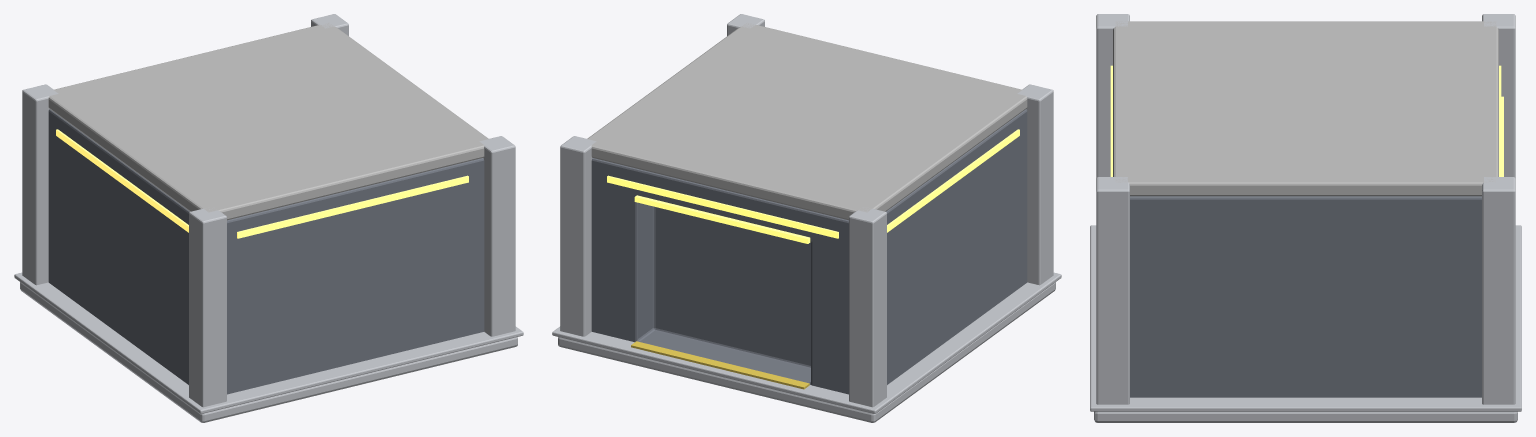
File: hangar3.glb
3 views of the same model, side by side, from view 1: azimuth 30°, elevation 25°; view 2: azimuth 150°, elevation 25°; view 3: azimuth 270°, elevation 25° (orthographic). The views are drawn at different scales.
Visible parts, largest first — view 1: ext_wall, int_ceiling, int_columns, int_slab_edge, int_slab, ext_stripe3, ext_stripe2; view 2: ext_wall, int_ceiling, int_columns, int_slab_edge, int_slab, ext_stripe1, ext_door_hazard, ext_door_glow, ext_stripe2; view 3: ext_wall, int_ceiling, int_columns, int_slab_edge, int_slab.
Part boxes in pixels (x1,y1,x2,y2): ext_wall: [48, 109, 484, 394]; int_ceiling: [48, 23, 488, 220]; int_columns: [22, 14, 515, 407]; int_slab_edge: [14, 272, 523, 413]; int_slab: [20, 282, 517, 422]; ext_stripe3: [237, 175, 468, 238]; ext_stripe2: [56, 129, 188, 232]; ext_wall: [591, 109, 1027, 394]; int_ceiling: [587, 23, 1027, 220]; int_columns: [560, 14, 1053, 407]; int_slab_edge: [552, 272, 1061, 413]; int_slab: [558, 282, 1055, 422]; ext_stripe1: [607, 175, 838, 238]; ext_door_hazard: [631, 341, 809, 389]; ext_door_glow: [634, 195, 810, 243]; ext_stripe2: [887, 129, 1019, 232]; ext_wall: [1130, 196, 1481, 397]; int_ceiling: [1113, 21, 1498, 196]; int_columns: [1096, 14, 1515, 404]; int_slab_edge: [1090, 225, 1521, 411]; int_slab: [1094, 411, 1517, 422].
Size of the model in its own units: 3.36 by 2 by 3.36.
